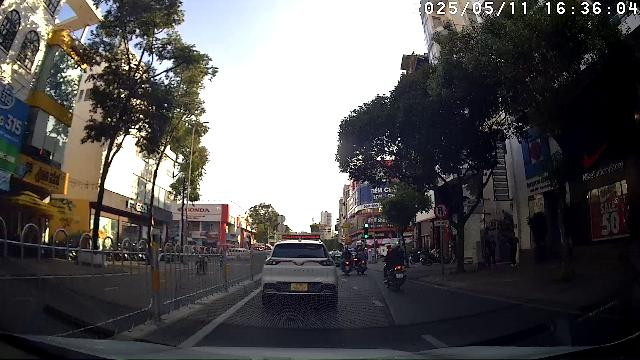124b-cam-oto-quay-dau-xe: (434, 202, 448, 218)
